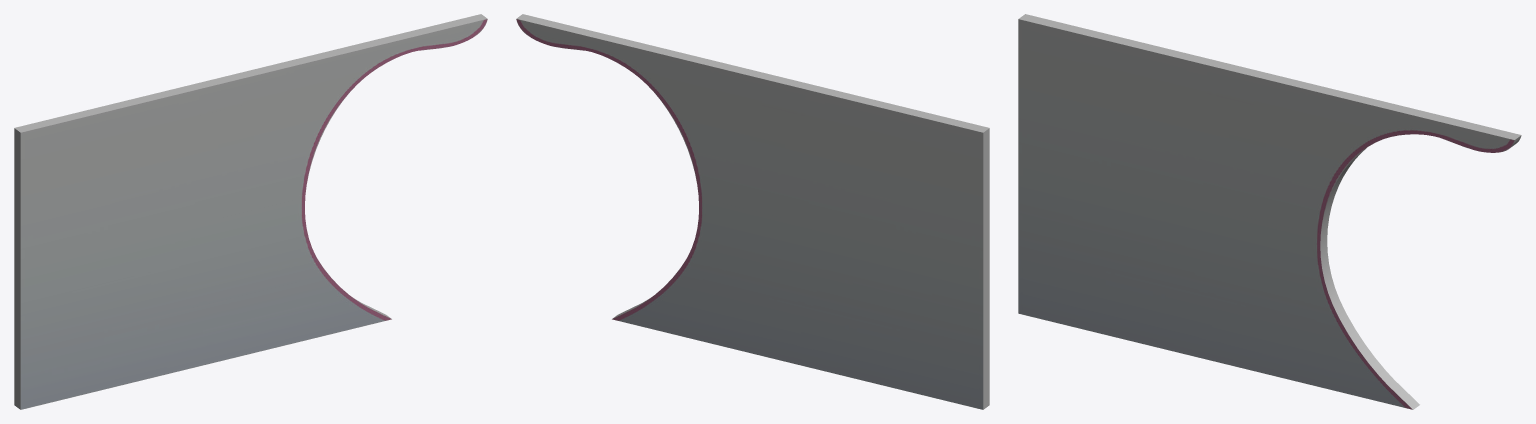
3 views of the same model, side by side, from view 1: azimuth 30°, elevation 25°; view 2: azimuth 150°, elevation 25°; view 3: azimuth 330°, elevation 25° (orthographic). The views are drawn at different scales.
Visible parts, largest first — view 1: Artist Wall_ Left side (1); view 2: Artist Wall_ Left side (1); view 3: Artist Wall_ Left side (1).
Boxes of the visible parts, <box> form: Artist Wall_ Left side (1): <box>14,14,487,409</box>; Artist Wall_ Left side (1): <box>516,14,989,409</box>; Artist Wall_ Left side (1): <box>1018,14,1521,409</box>.
Size of the model in its own units: 0.945 by 0.536 by 0.023.
Materials: 3 (3 with a texture image).
